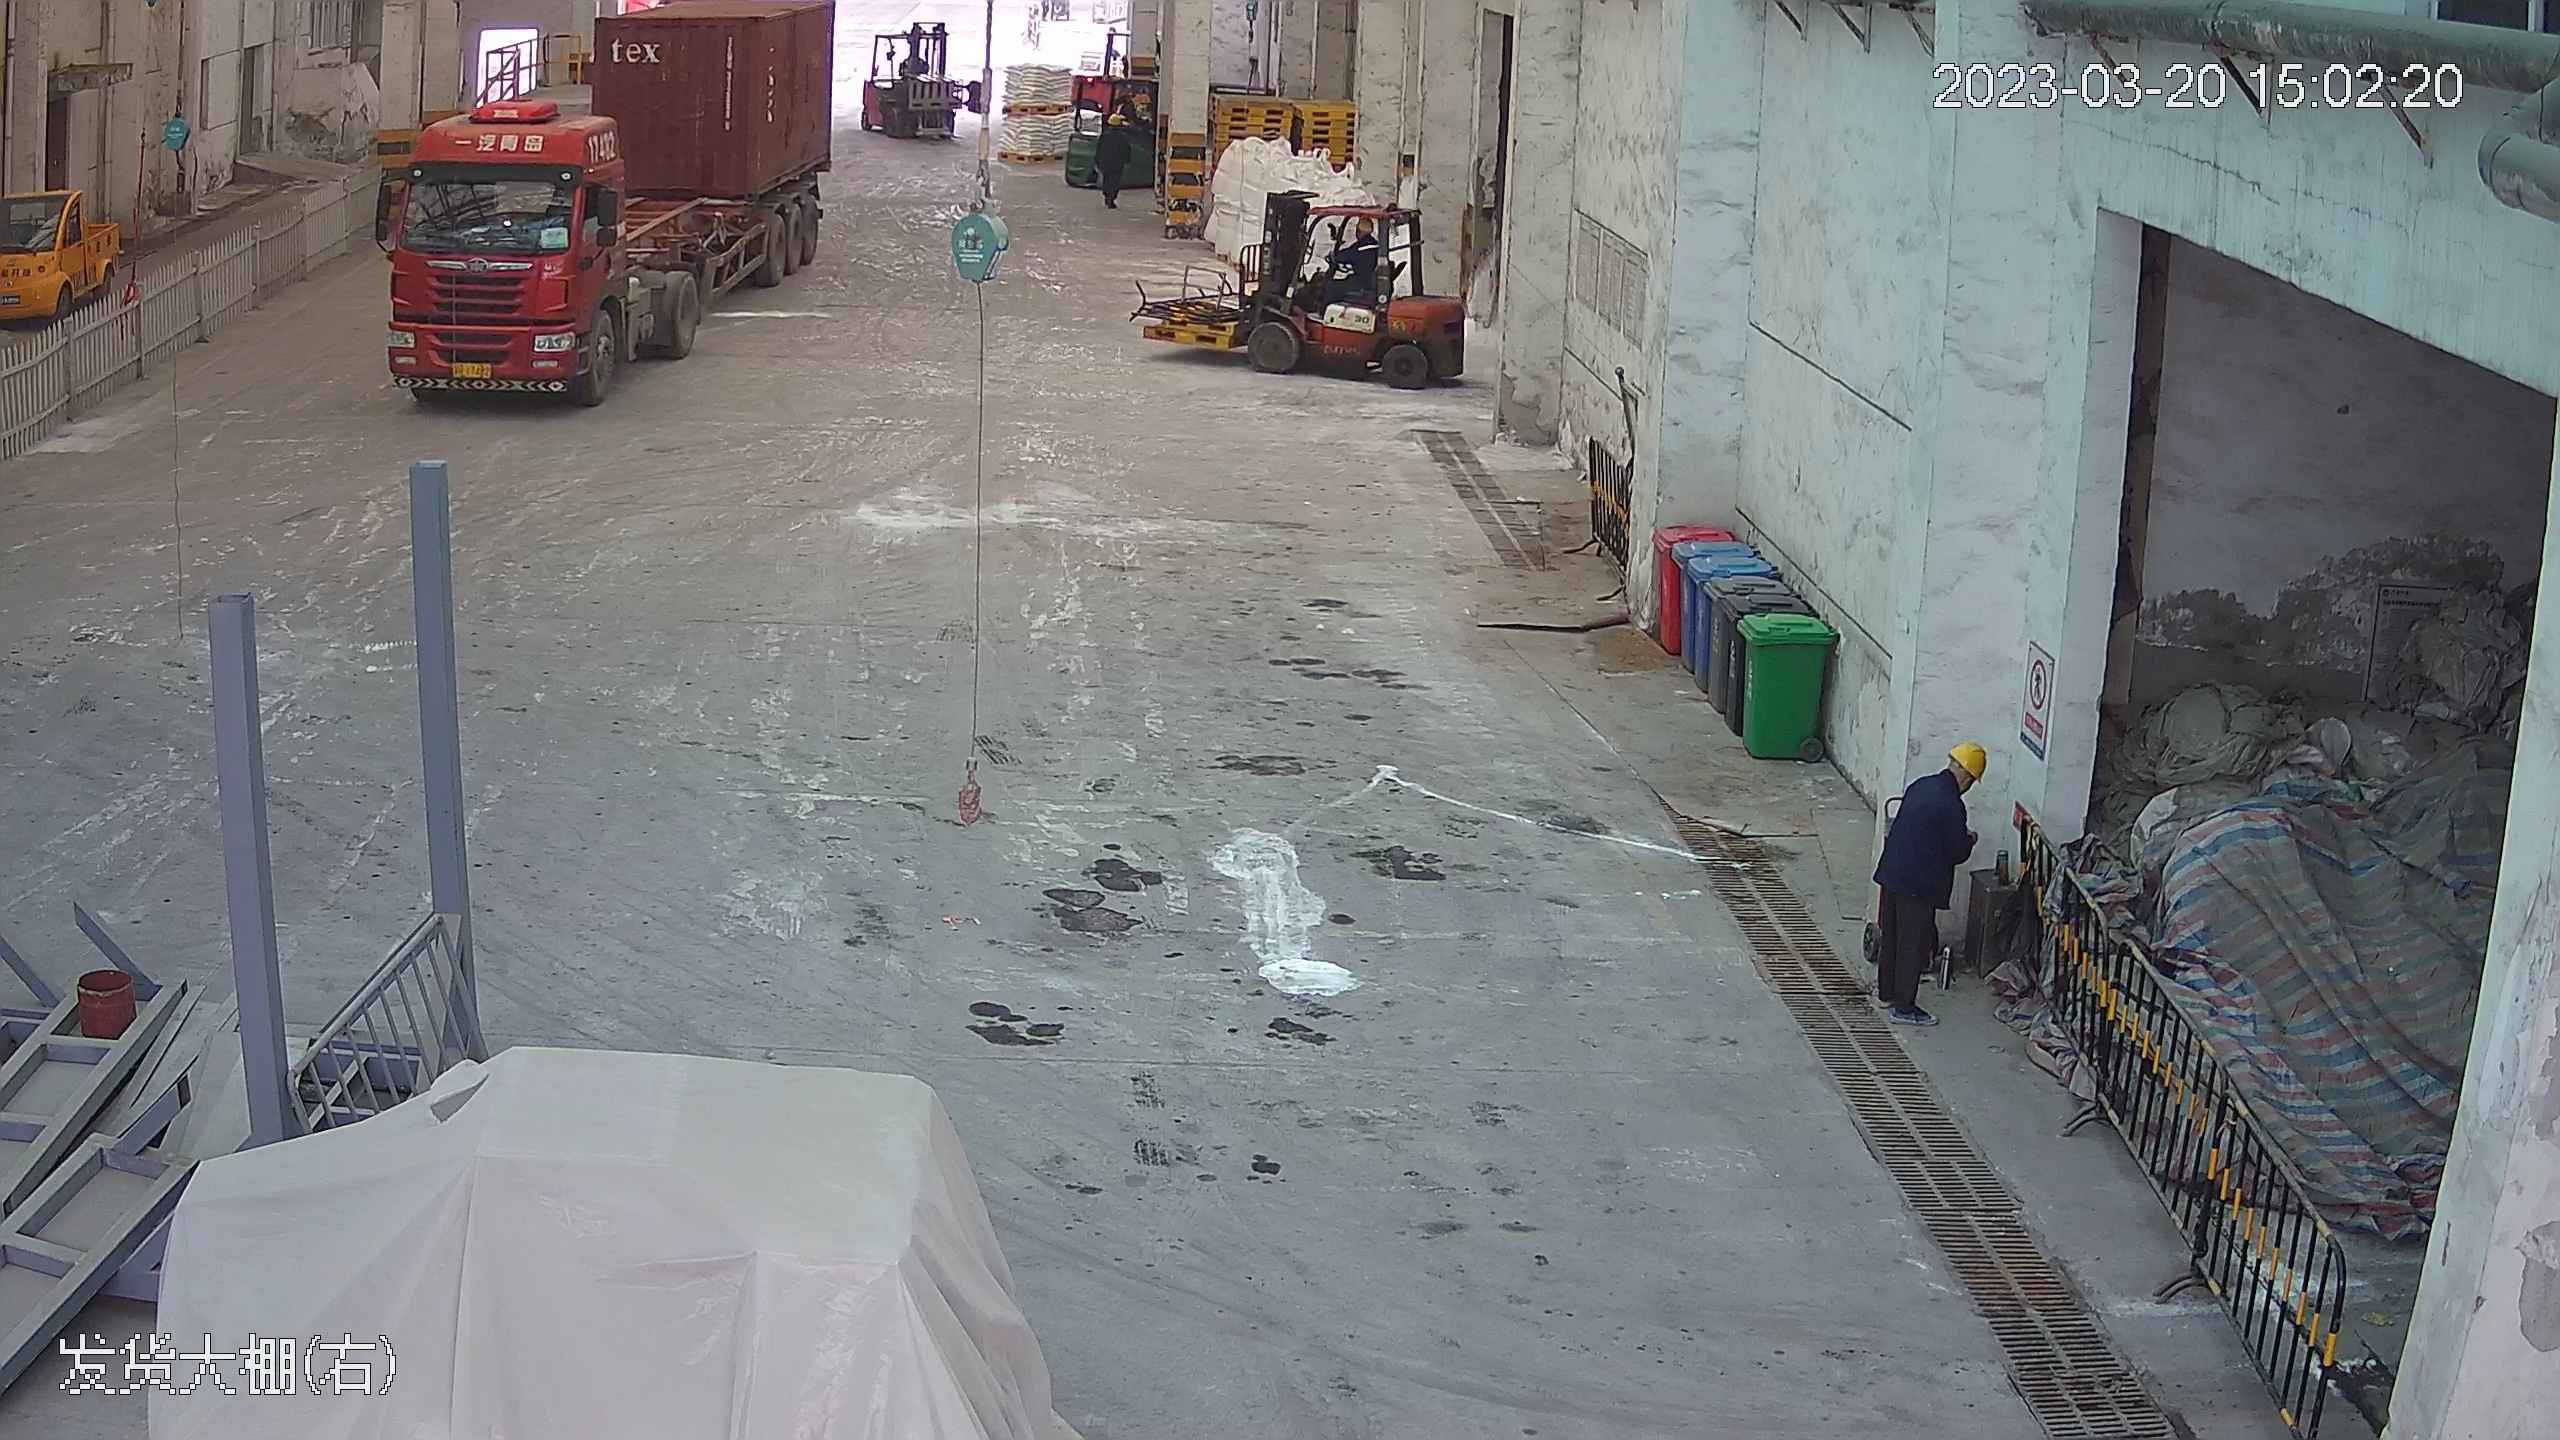head: (1904, 738, 1990, 824), (1337, 215, 1380, 263), (1097, 114, 1130, 144)
helmet: (1949, 736, 1993, 784), (1351, 212, 1375, 232), (1107, 114, 1122, 126)
people: (1866, 733, 1992, 1015), (1318, 213, 1386, 318), (1095, 111, 1129, 212)
truck: (377, 4, 851, 408)
